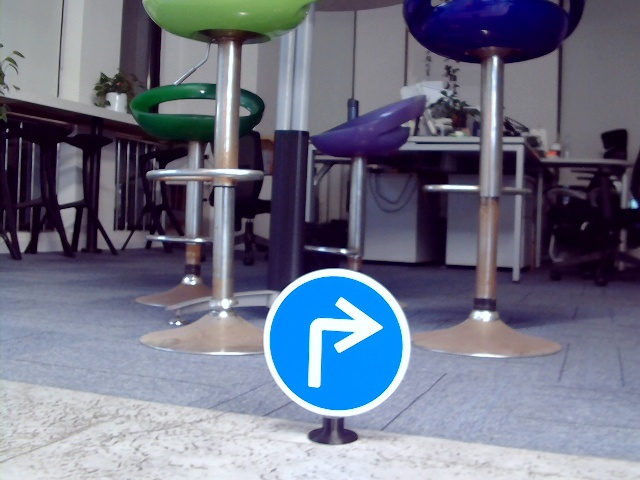turn_right: (296, 299, 381, 386)
